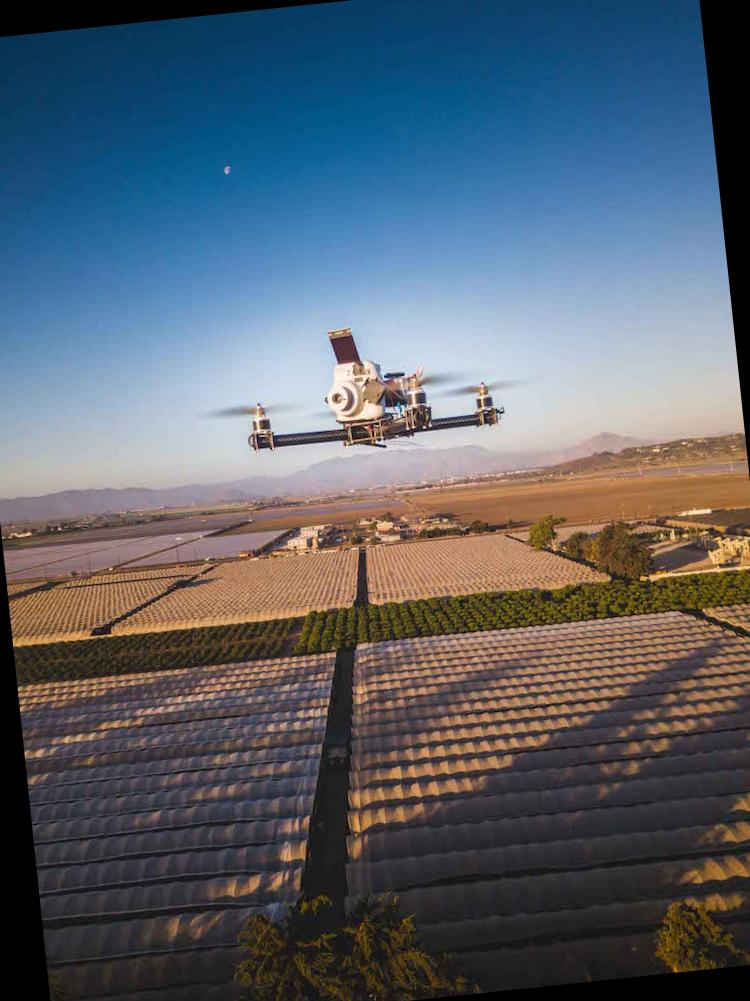drone: (230, 302, 504, 456)
